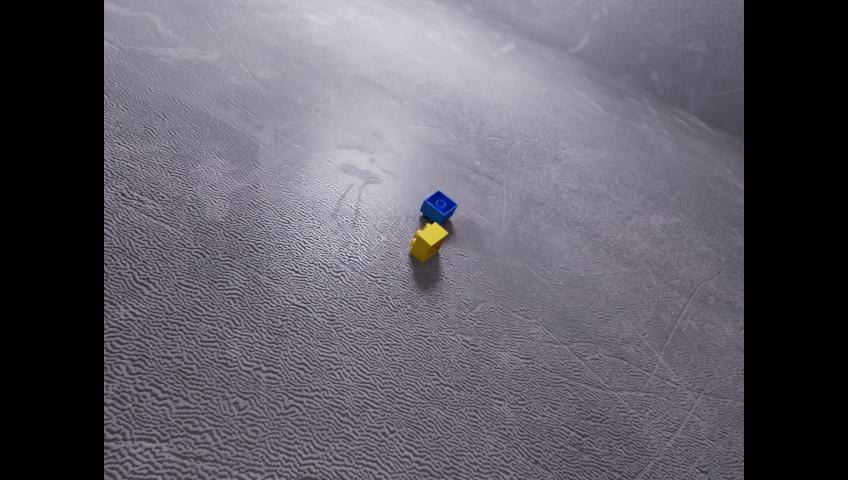2x2_blue: (419, 189, 456, 225)
2x2_yellow: (409, 222, 447, 262)
